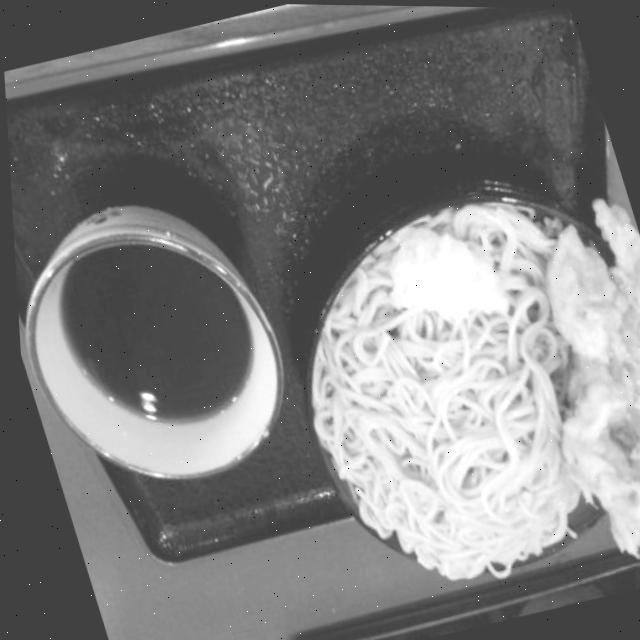面条主食: (246, 191, 626, 625)
